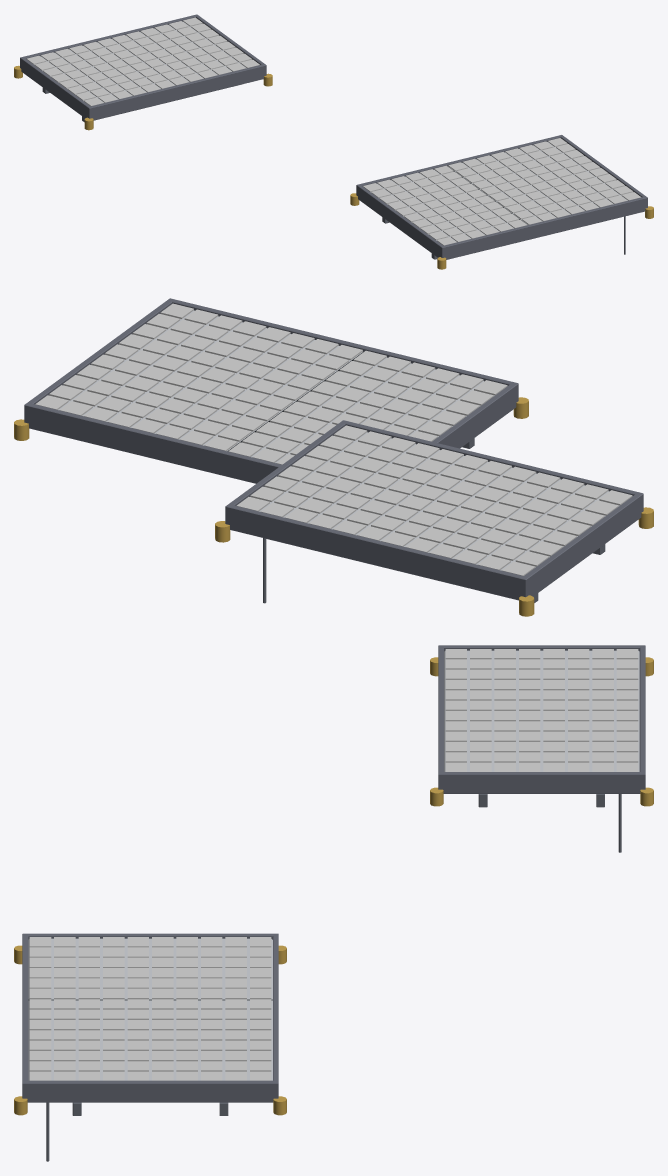
3 renders of one model, top to bottom at view 1: azimuth 30°, elevation 25°; view 2: azimuth 150°, elevation 25°; view 3: azimuth 270°, elevation 25°, orthographic. The views are drawn at different scales.
Parts seen in each view (by area): view 1: pm1_m2; view 2: pm1_m2; view 3: pm1_m2.
Part boxes in pixels (left/top/right/bottom): pm1_m2: left=14, top=14, right=653, bottom=269; pm1_m2: left=14, top=298, right=653, bottom=616; pm1_m2: left=14, top=645, right=653, bottom=1161.
Bounding box in the file's own units: 15.07 × 5 × 13.08.
